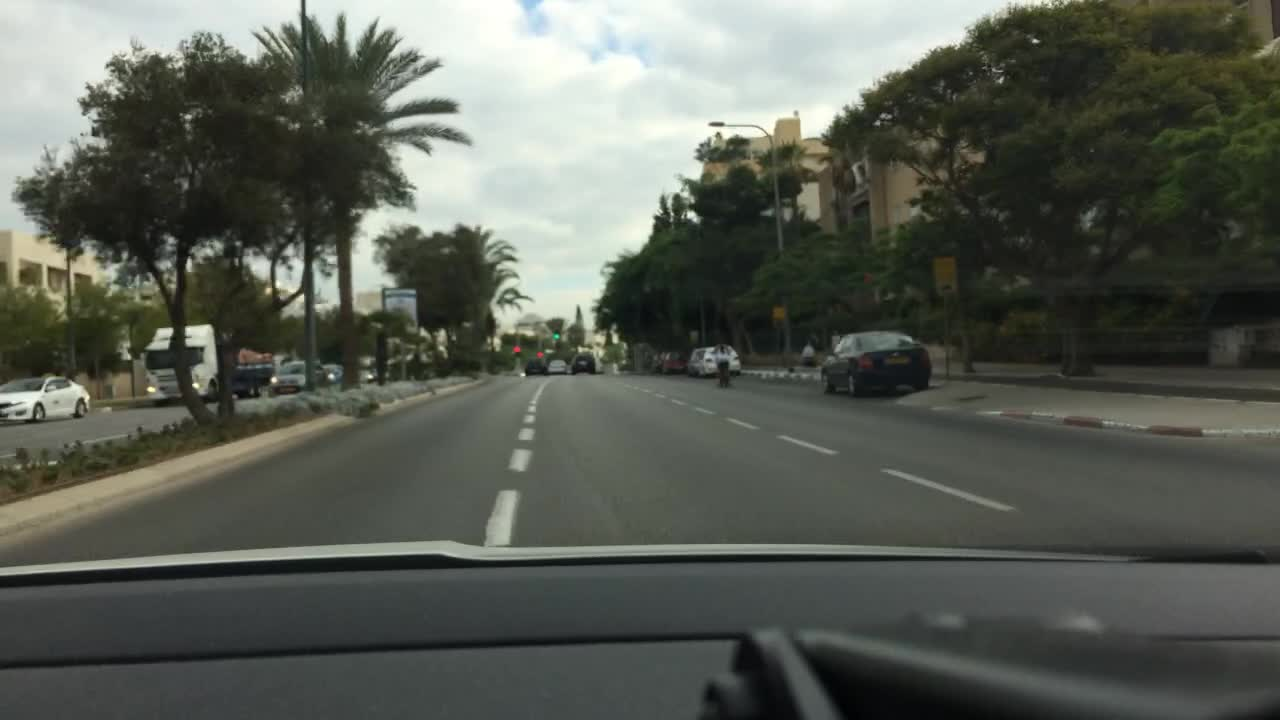bike: (718, 361, 732, 386)
car: (819, 331, 933, 394), (0, 375, 88, 427), (687, 346, 743, 376), (268, 361, 309, 391), (570, 351, 601, 373), (655, 350, 686, 371), (320, 361, 343, 389), (358, 360, 381, 380), (547, 360, 565, 376), (526, 358, 542, 374)
person: (799, 341, 814, 371)
rider: (707, 339, 731, 366)
traffic light: (551, 325, 561, 341), (512, 341, 522, 355)
traffic sign: (933, 257, 958, 296), (773, 304, 786, 323)
truck: (142, 324, 269, 405)
